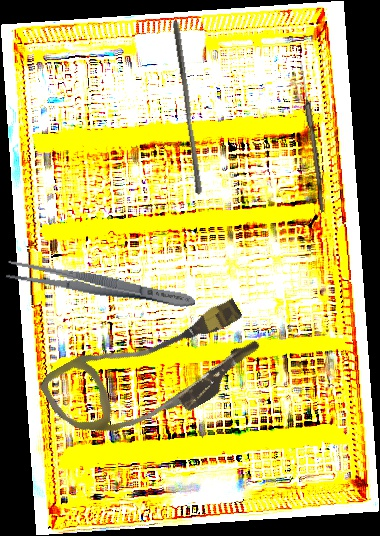Cannula: (36, 275, 271, 470)
Dressing Forceps: (4, 257, 198, 314)
Pusher: (165, 19, 209, 196)
Surgical Spoon: (297, 62, 328, 213)
